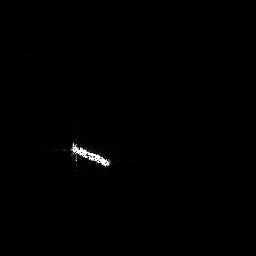ship: (66, 139, 113, 170)
